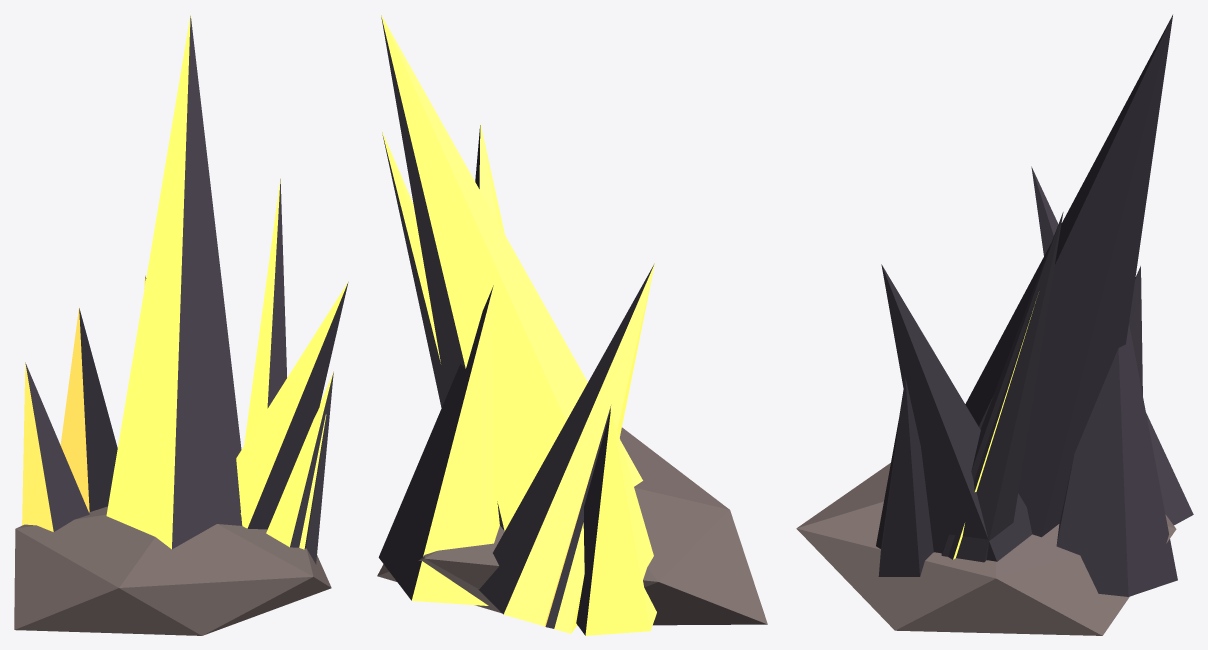
File: lava_spike.glb
3 renders of one model, left to right at view 1: azimuth 30°, elevation 25°; view 2: azimuth 150°, elevation 25°; view 3: azimuth 270°, elevation 25°, orthographic. The views are drawn at different scales.
Parts seen in each view (by area): view 1: Lava_Spike; view 2: Lava_Spike; view 3: Lava_Spike.
Part boxes in pixels (bbox=[...]): Lava_Spike: bbox=[14, 15, 348, 635]; Lava_Spike: bbox=[377, 15, 767, 635]; Lava_Spike: bbox=[796, 15, 1193, 635].
Bounding box in the file's own units: 3.65 × 6.28 × 3.53.
